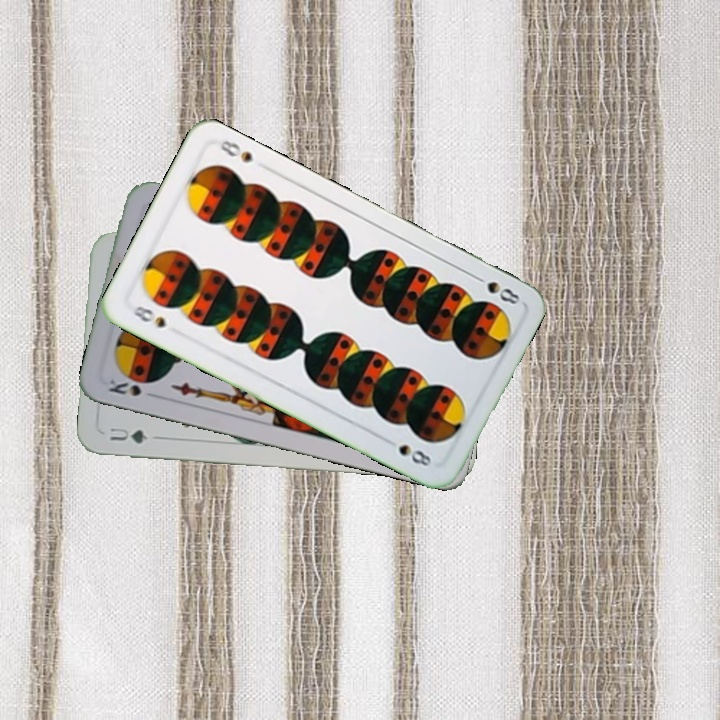GU: (105, 423, 151, 446)
S8: (468, 270, 522, 307), (128, 301, 169, 331)
SK: (102, 373, 161, 402)
